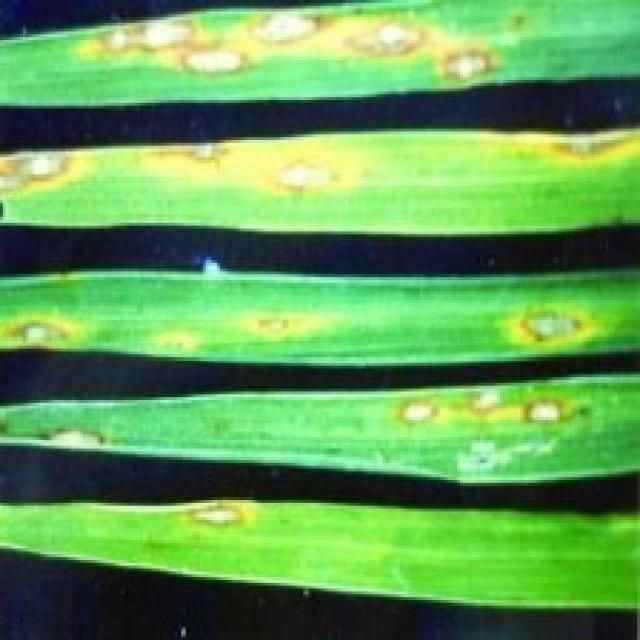Rice___Rice_Blast: (0, 498, 637, 615), (0, 374, 637, 487), (0, 128, 637, 239), (0, 0, 637, 107), (0, 268, 637, 370)
